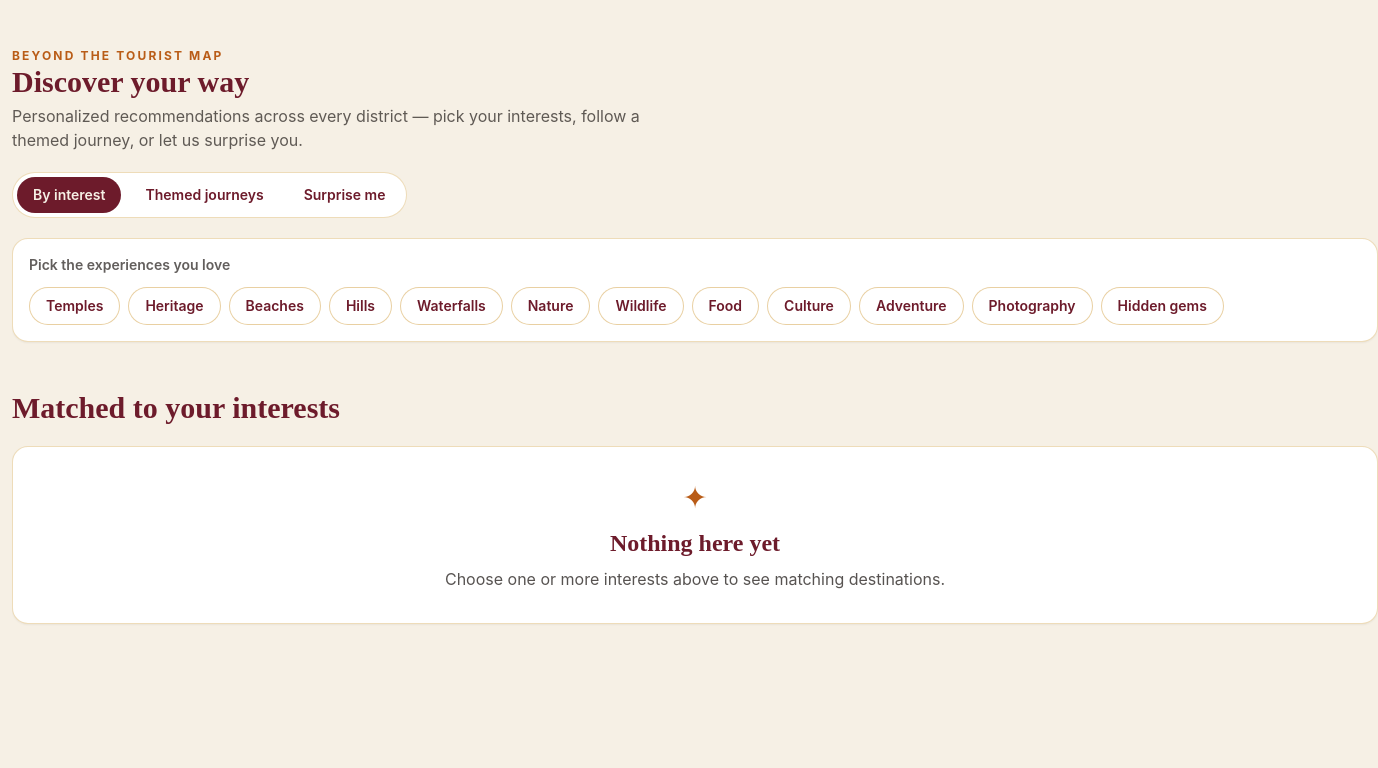
PersonalizedDiscovery › shows a skeleton while an interest recommendation loads
Click the button "Temples" at (75, 306), box [29,287,120,325]
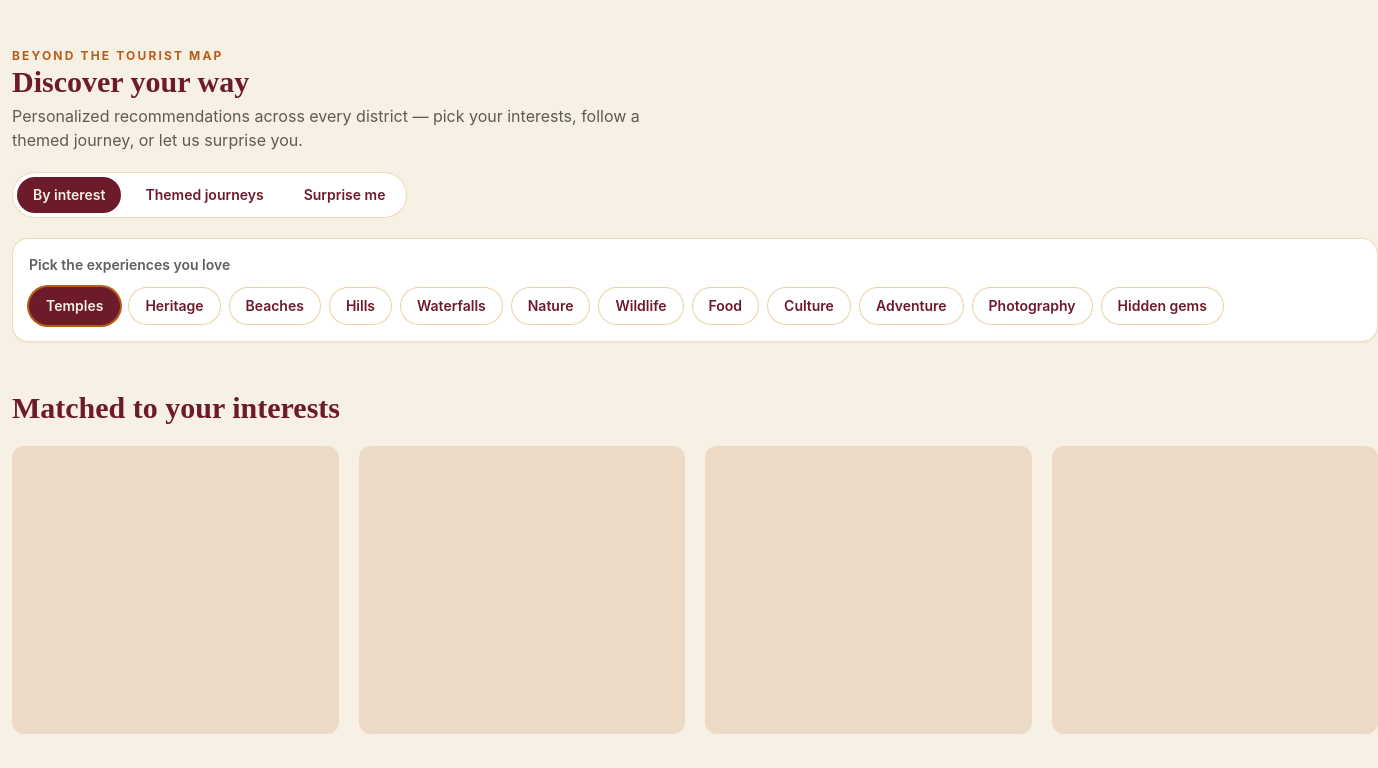
Expected: the 1st message named "Loading destinations" is shown, [12,446,338,734]
